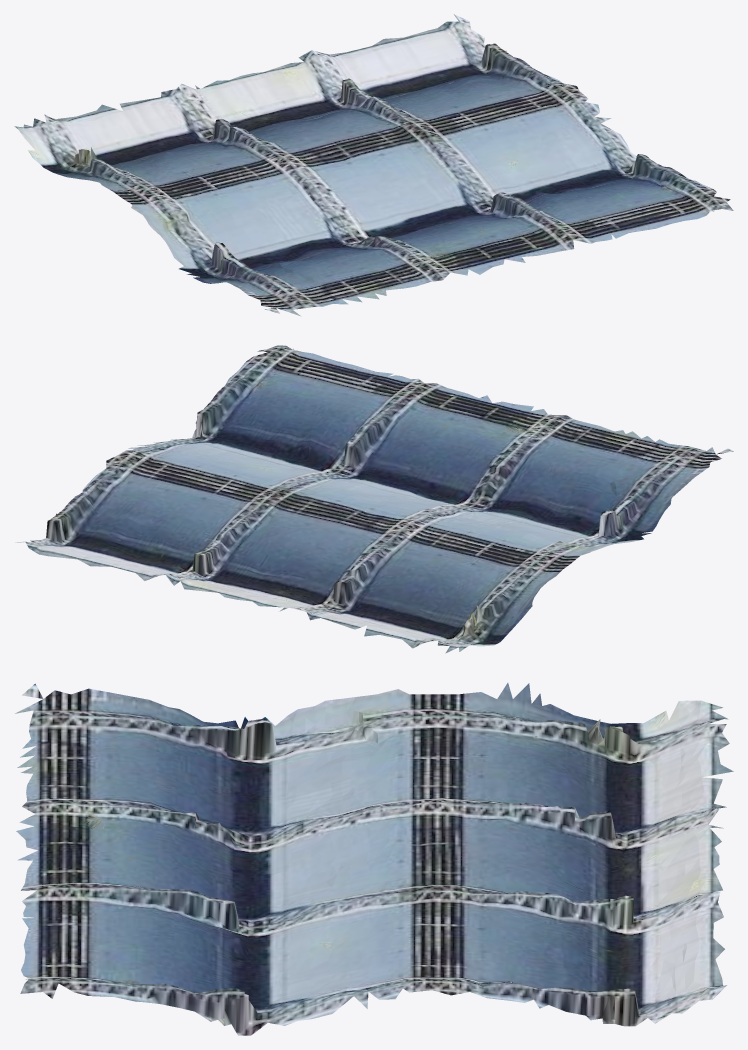
The model's file is Tile_002_002_L14_4113.glb.
3 renders of one model, top to bottom at view 1: azimuth 30°, elevation 25°; view 2: azimuth 150°, elevation 25°; view 3: azimuth 270°, elevation 25°, orthographic. The views are drawn at different scales.
Visible parts, largest first — view 1: rtc; view 2: rtc; view 3: rtc.
Boxes of the visible parts, box(x1,y1,x2,y2) form: rtc: box(14, 14, 733, 316); rtc: box(15, 345, 733, 653); rtc: box(15, 683, 733, 1035).
Bounding box in the file's own units: 88.13 × 8.15 × 88.48.
Materials: 1 (1 with a texture image).
